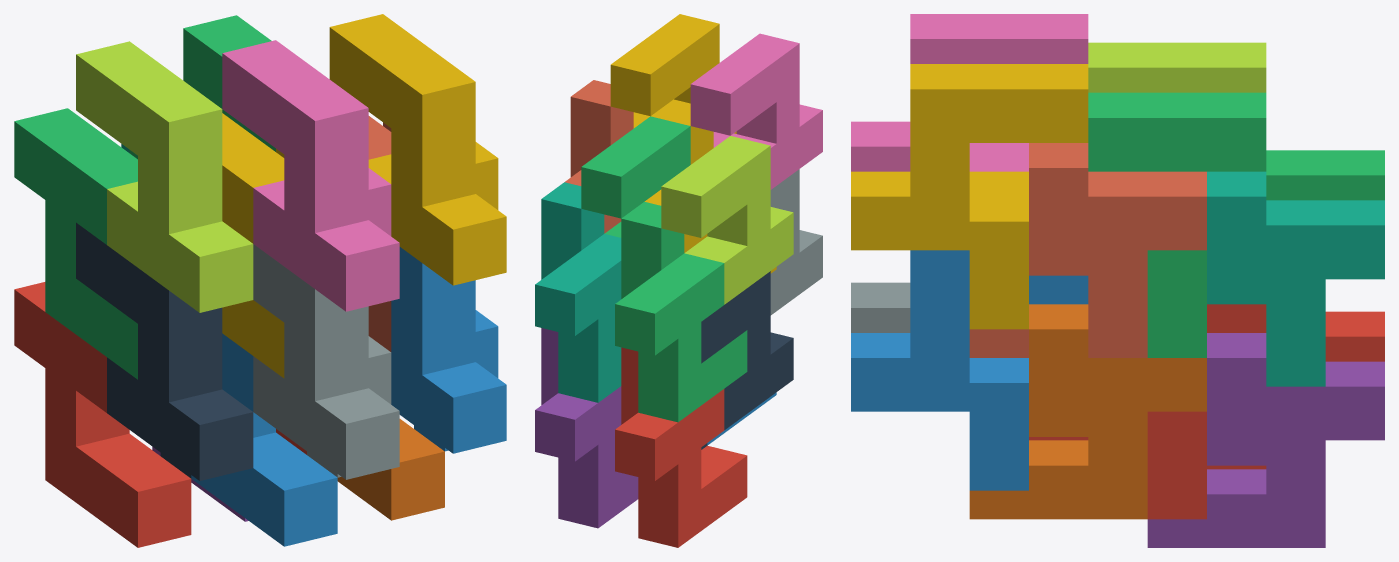
The model's file is tiling.obj.
3 renders of one model, left to right at view 1: azimuth 30°, elevation 25°; view 2: azimuth 150°, elevation 25°; view 3: azimuth 270°, elevation 25°, orthographic. The views are drawn at different scales.
Parts seen in each view (by area): view 1: copy_2_domain_4, copy_2_domain_3, copy_2_domain_8, copy_2_domain_1, copy_2_domain_2, copy_1_domain_1, copy_2_domain_6, copy_1_domain_3, copy_1_domain_2, copy_1_domain_4, copy_1_domain_6, copy_2_domain_7 (+1 smaller); view 2: copy_1_domain_3, copy_1_domain_1, copy_1_domain_7, copy_2_domain_3, copy_2_domain_4, copy_1_domain_5, copy_2_domain_8, copy_2_domain_7, copy_2_domain_1, copy_1_domain_8, copy_2_domain_2, copy_1_domain_4; view 3: copy_2_domain_8, copy_1_domain_5, copy_1_domain_6, copy_1_domain_8, copy_2_domain_6, copy_1_domain_7, copy_2_domain_7, copy_2_domain_4, copy_2_domain_3, copy_2_domain_5, copy_1_domain_3, copy_1_domain_1 (+1 smaller).
Part boxes in pixels (x1,y1,x2,y2): copy_2_domain_4: [222, 40, 399, 311]; copy_2_domain_3: [76, 41, 253, 312]; copy_2_domain_8: [329, 14, 506, 285]; copy_2_domain_1: [76, 222, 253, 480]; copy_2_domain_2: [253, 244, 399, 479]; copy_1_domain_1: [14, 282, 191, 547]; copy_2_domain_6: [391, 247, 506, 453]; copy_1_domain_3: [14, 108, 137, 379]; copy_1_domain_2: [191, 333, 337, 546]; copy_1_domain_4: [222, 113, 284, 378]; copy_1_domain_6: [337, 419, 444, 520]; copy_2_domain_7: [183, 15, 275, 151]; copy_1_domain_3: [615, 202, 747, 422]; copy_1_domain_1: [615, 347, 747, 547]; copy_1_domain_7: [535, 182, 621, 402]; copy_2_domain_3: [661, 136, 793, 304]; copy_2_domain_4: [690, 33, 822, 189]; copy_1_domain_5: [535, 328, 638, 528]; copy_2_domain_8: [610, 14, 736, 133]; copy_2_domain_7: [581, 116, 690, 237]; copy_2_domain_1: [701, 271, 793, 449]; copy_1_domain_8: [564, 80, 633, 233]; copy_2_domain_2: [770, 169, 822, 315]; copy_1_domain_4: [644, 99, 776, 273]; copy_2_domain_8: [851, 64, 1088, 329]; copy_1_domain_5: [1147, 333, 1384, 547]; copy_1_domain_6: [969, 304, 1206, 519]; copy_1_domain_8: [969, 143, 1206, 357]; copy_2_domain_6: [851, 250, 1088, 490]; copy_1_domain_7: [1207, 171, 1384, 386]; copy_2_domain_7: [1088, 92, 1266, 357]; copy_2_domain_4: [851, 14, 1088, 171]; copy_2_domain_3: [1088, 42, 1266, 92]; copy_2_domain_5: [1029, 304, 1266, 519]; copy_1_domain_3: [1266, 150, 1384, 200]; copy_1_domain_1: [1207, 311, 1384, 469].
Bounding box in the file's own units: 5 × 9 × 9.
